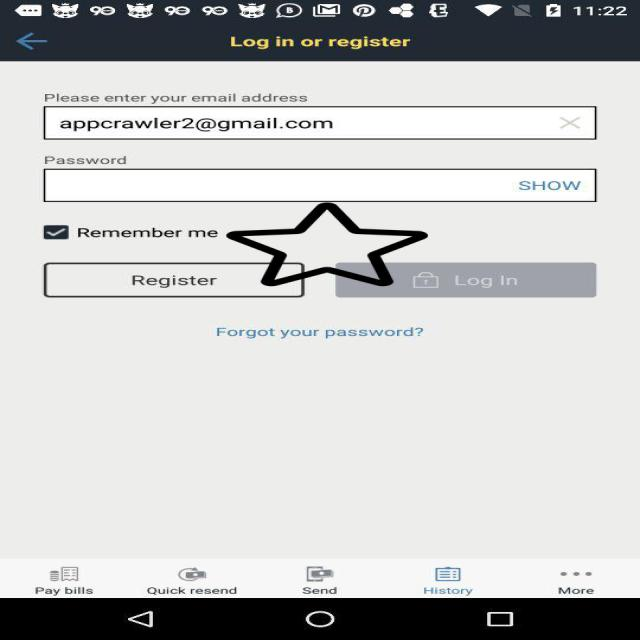forced continuity: (226, 201, 428, 288)
